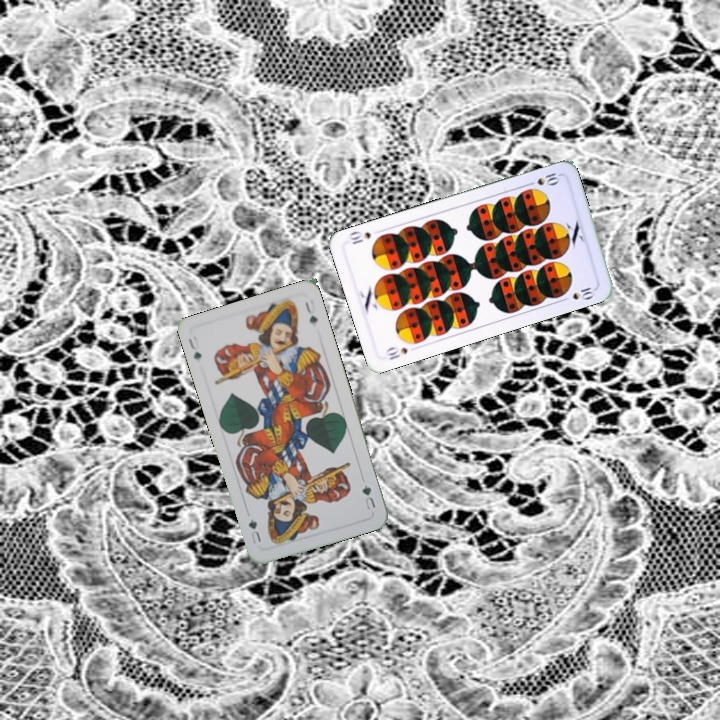GU: (358, 480, 378, 513), (184, 331, 204, 363)
S10: (523, 169, 562, 188), (382, 342, 410, 363)
